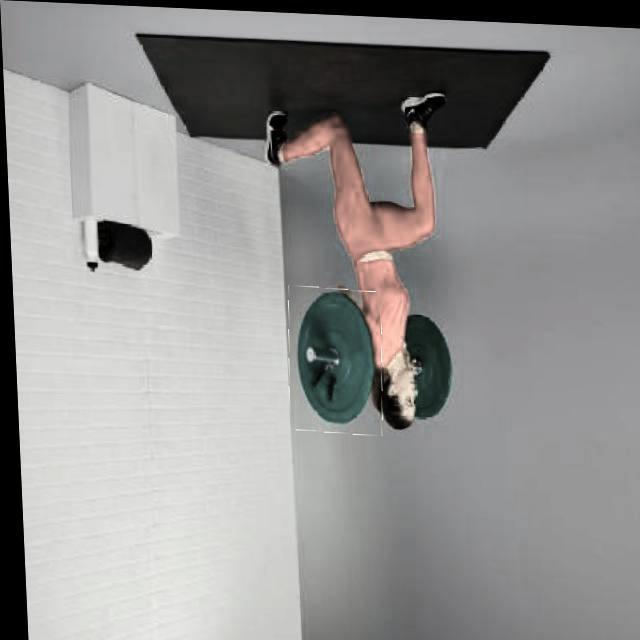barbell: (282, 283, 382, 432)
